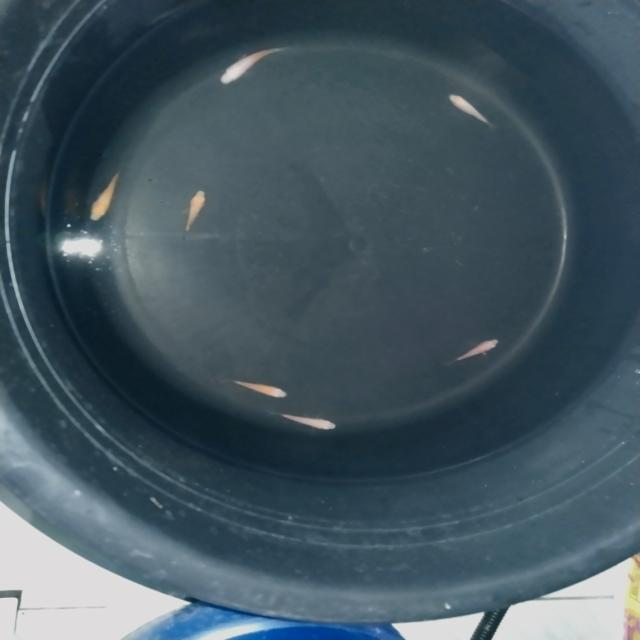nila: (217, 40, 294, 87), (88, 166, 128, 226), (445, 89, 500, 132), (266, 408, 344, 434), (450, 333, 507, 365), (179, 186, 212, 236), (228, 378, 290, 404)
